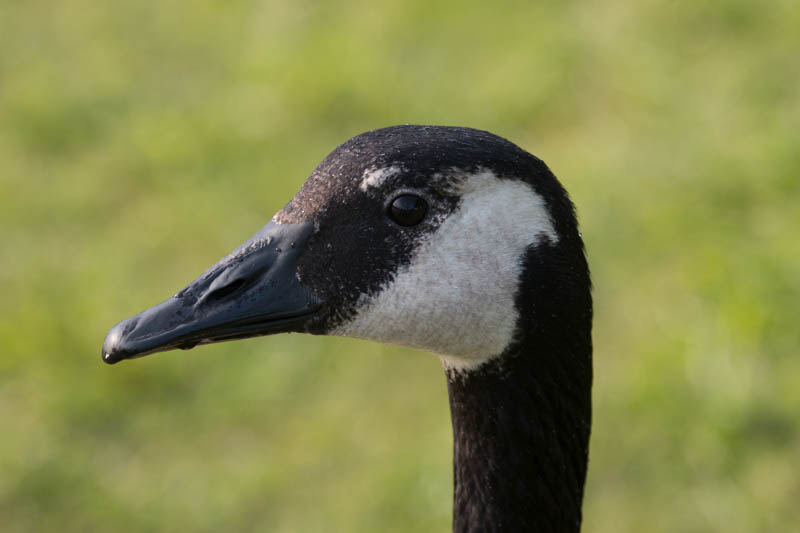goose-head: (100, 123, 595, 367)
